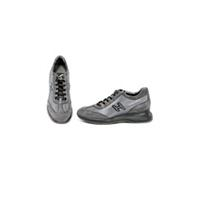shoe: (77, 87, 152, 126), (46, 56, 72, 122)
